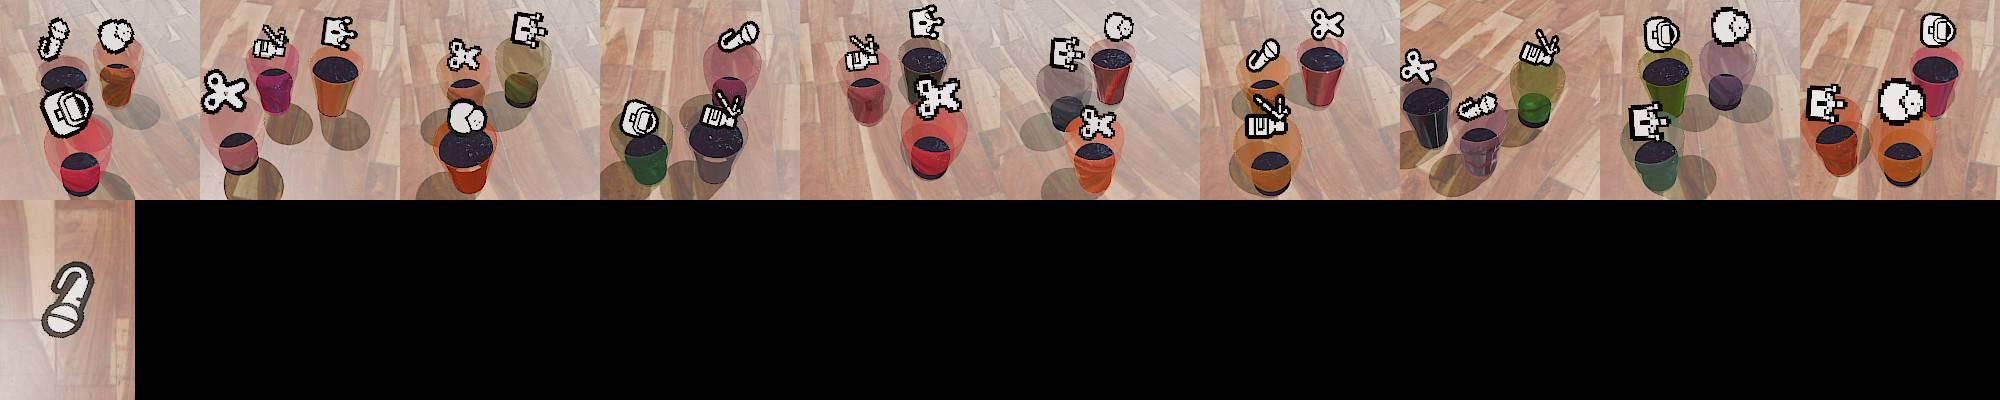icon: (40, 259, 97, 339), (40, 87, 94, 139), (1241, 88, 1288, 140), (200, 68, 250, 115), (912, 75, 964, 120), (1876, 78, 1925, 125), (698, 89, 746, 132), (1629, 99, 1672, 141), (1806, 83, 1851, 124), (1518, 27, 1562, 68), (1709, 6, 1753, 47), (619, 98, 659, 138), (1643, 15, 1682, 56), (250, 23, 291, 61), (717, 18, 760, 54), (1077, 106, 1119, 141), (37, 17, 70, 61), (1401, 47, 1439, 85), (844, 32, 881, 71), (448, 98, 487, 135), (97, 18, 135, 55), (320, 14, 357, 52), (1457, 90, 1500, 122), (908, 4, 945, 41), (1920, 13, 1957, 50), (510, 10, 546, 48), (1048, 34, 1084, 73), (445, 38, 482, 73), (1310, 6, 1344, 41), (1246, 38, 1281, 73), (1102, 11, 1134, 42)
